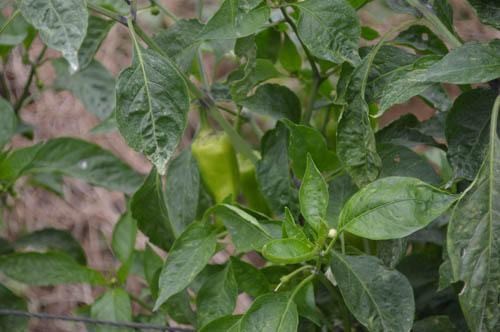ChiliPepper: (194, 133, 238, 221), (242, 147, 269, 222)
